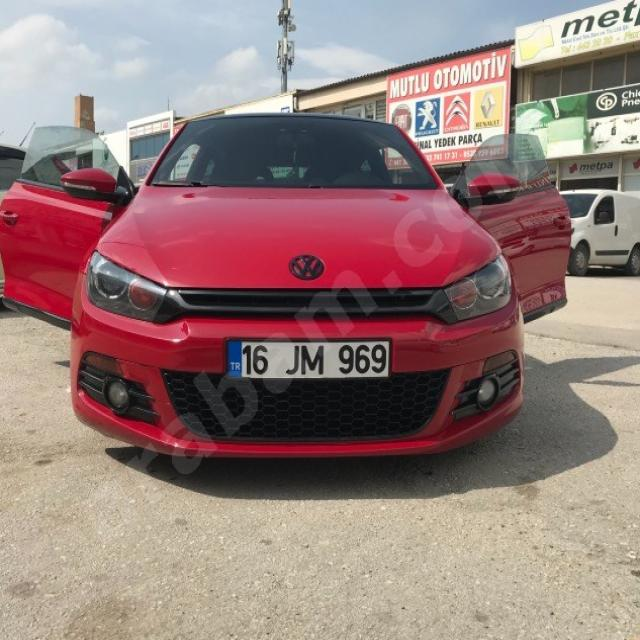license_plate: (226, 340, 390, 378)
